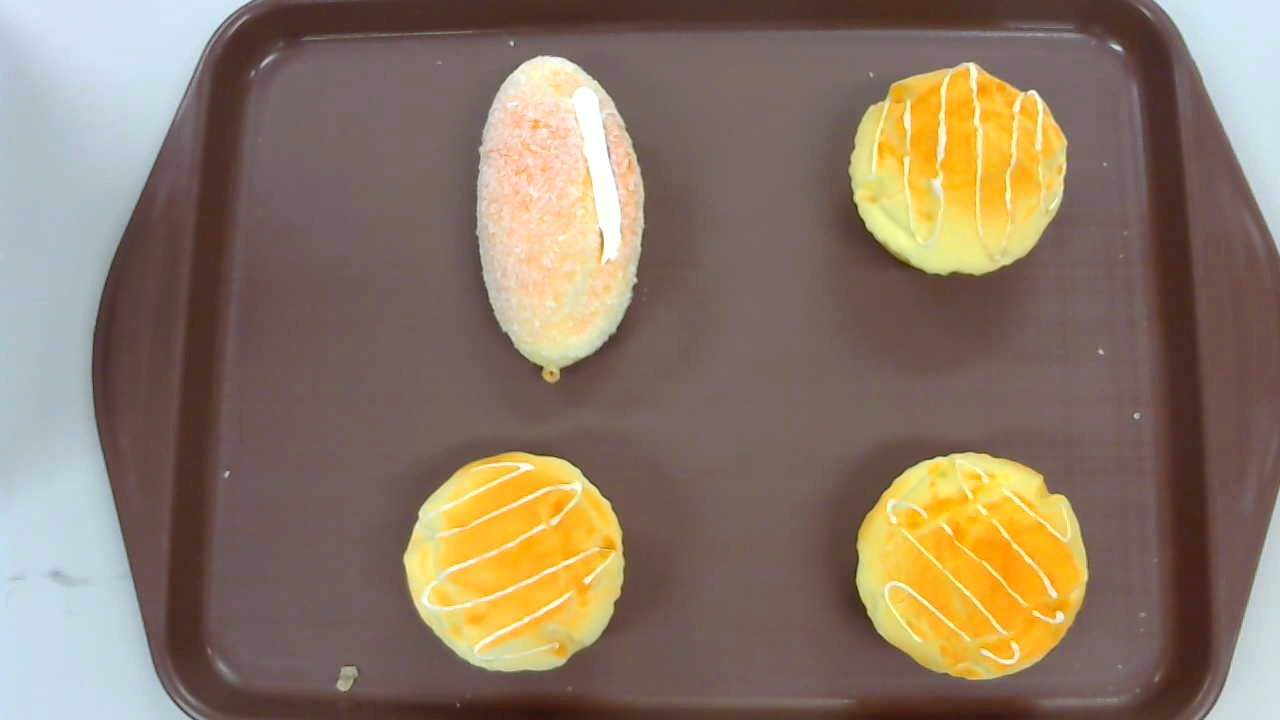coconut: (476, 55, 647, 386)
cupcake: (854, 452, 1087, 682), (402, 451, 626, 674), (848, 62, 1069, 278)
